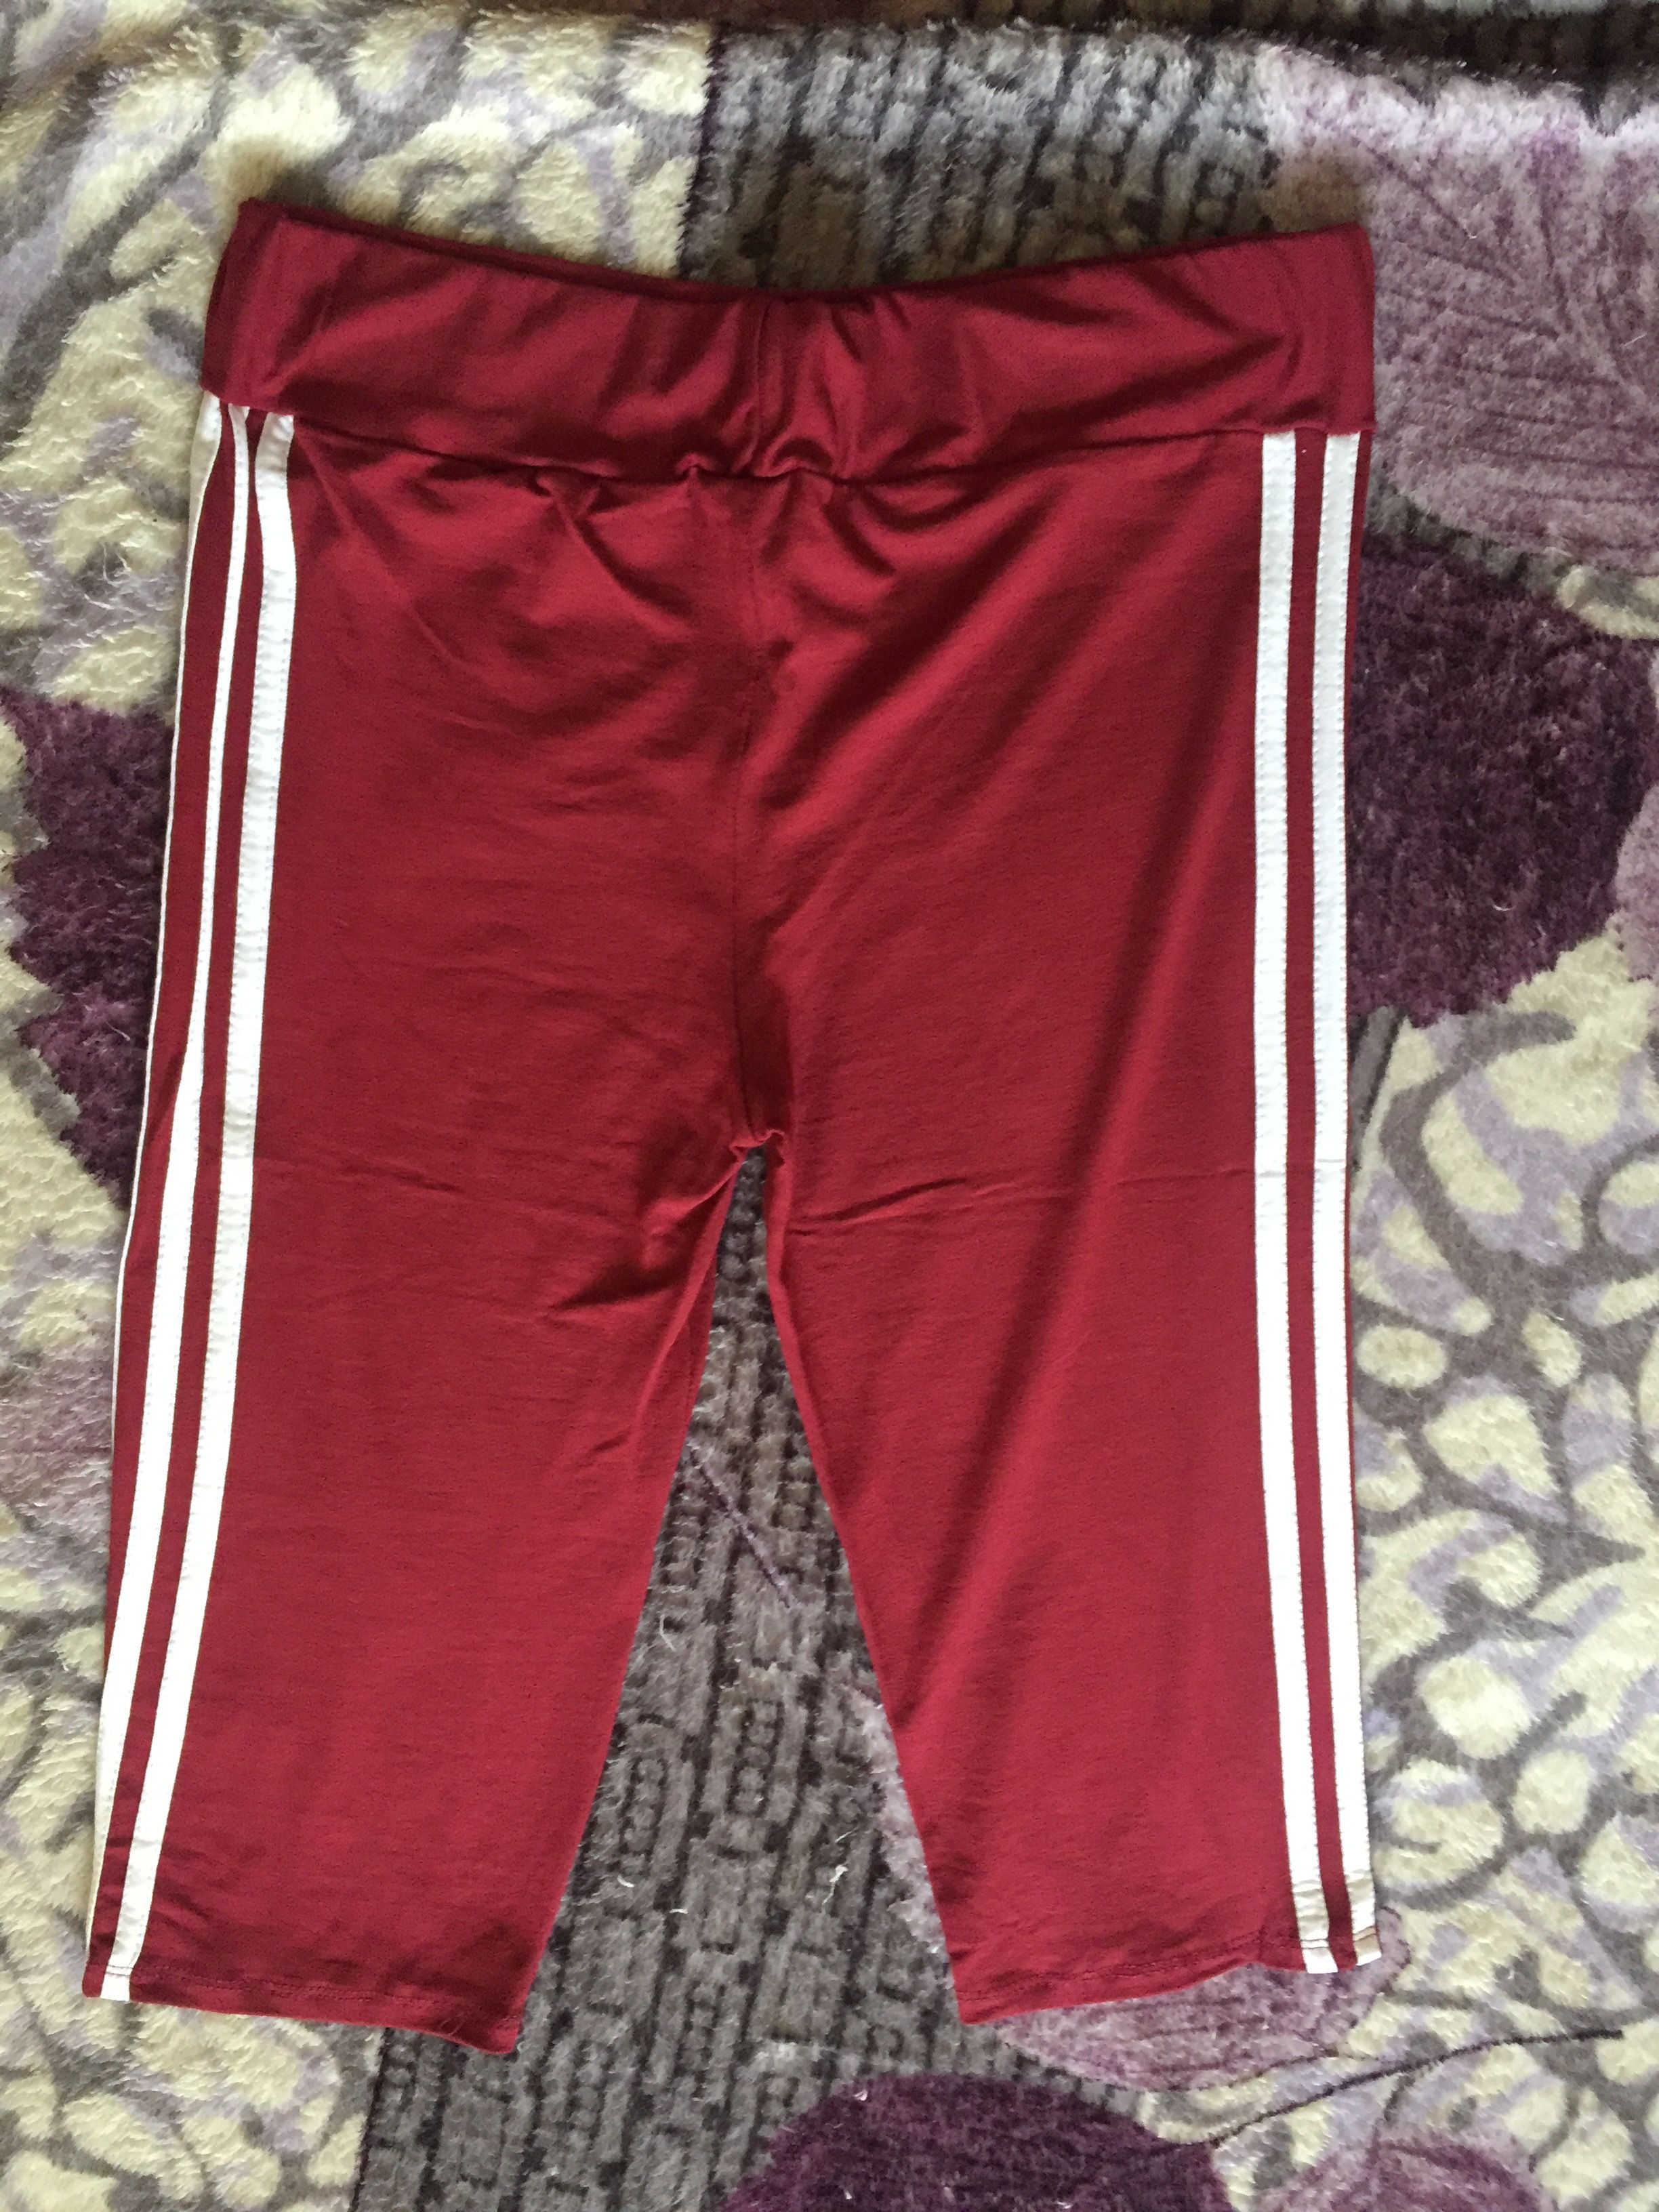clothes: (82, 206, 1408, 2033)
